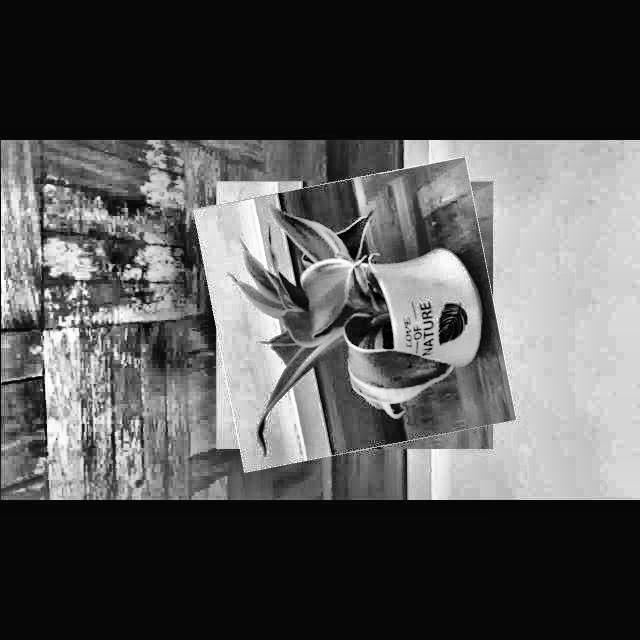plants: (205, 169, 504, 461)
